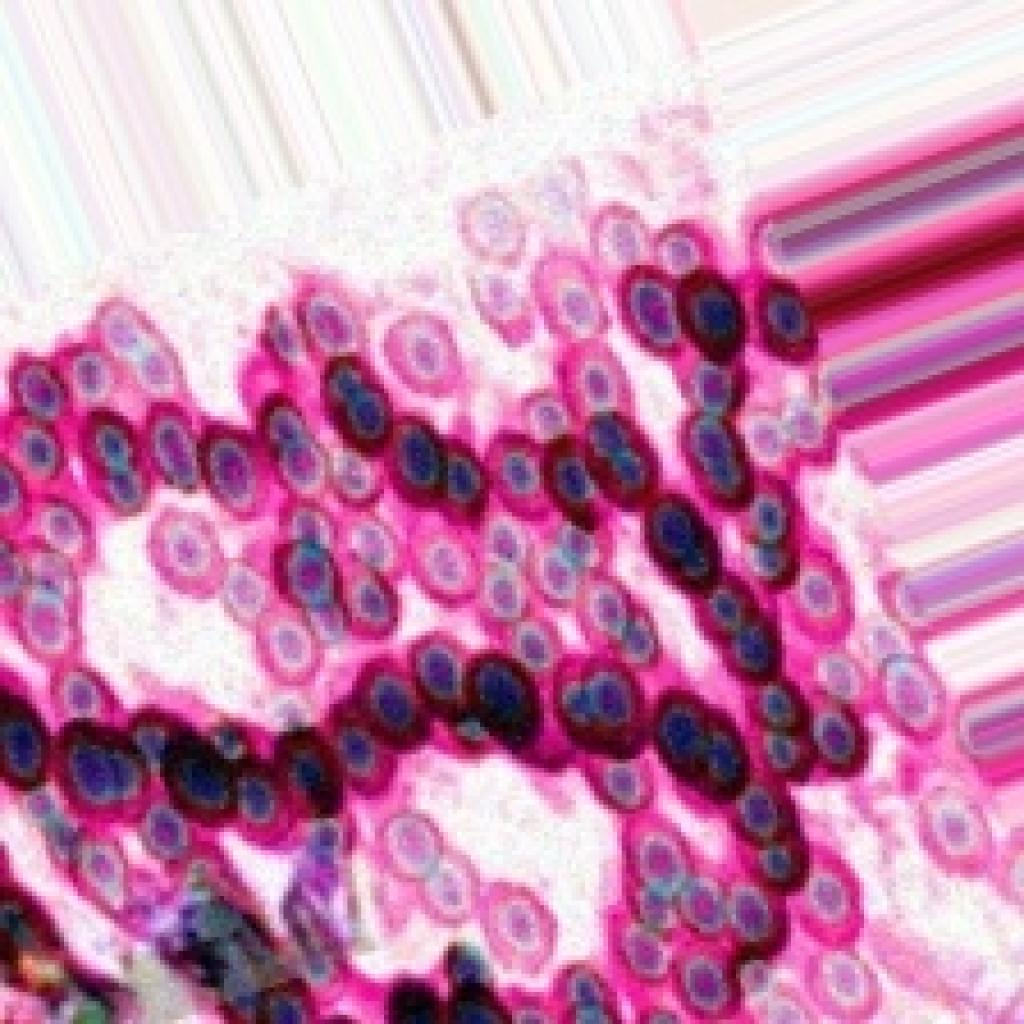Sphericalbacteria: (0, 92, 887, 1020)
